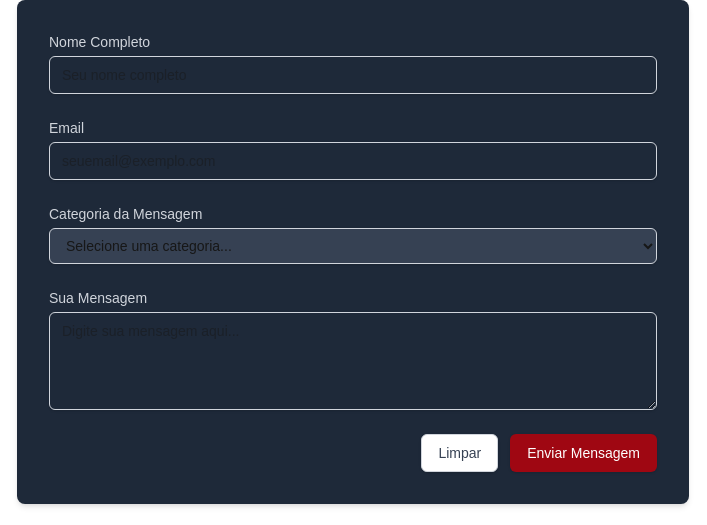
Test: FormContato Component › Funcionalidade do Botão Limpar › o botão "Limpar" não deve submeter o formulário
In the field labelled "Nome Completo": (353, 75) [49, 56, 657, 94], type "Nome Teste"
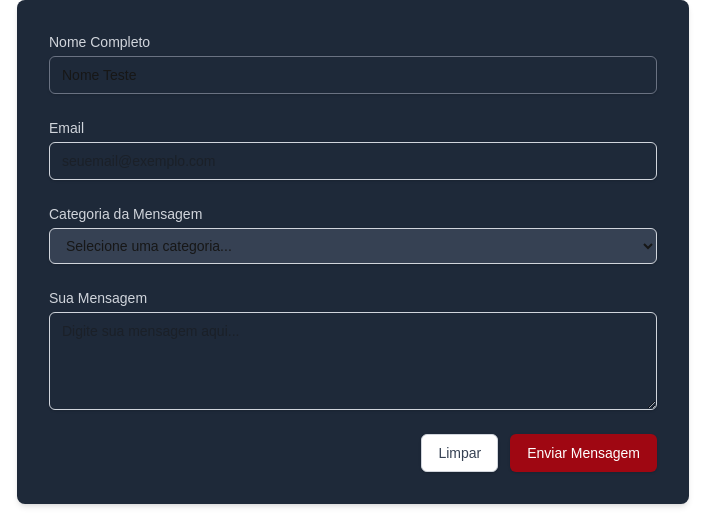
Click the button "Limpar": (460, 453) [421, 434, 498, 472]
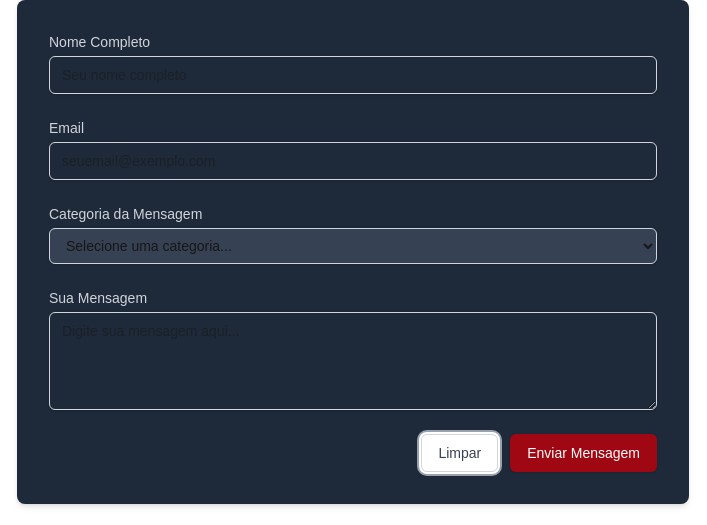
Expected: the field labelled "Nome Completo" is empty, [49, 56, 657, 94]
